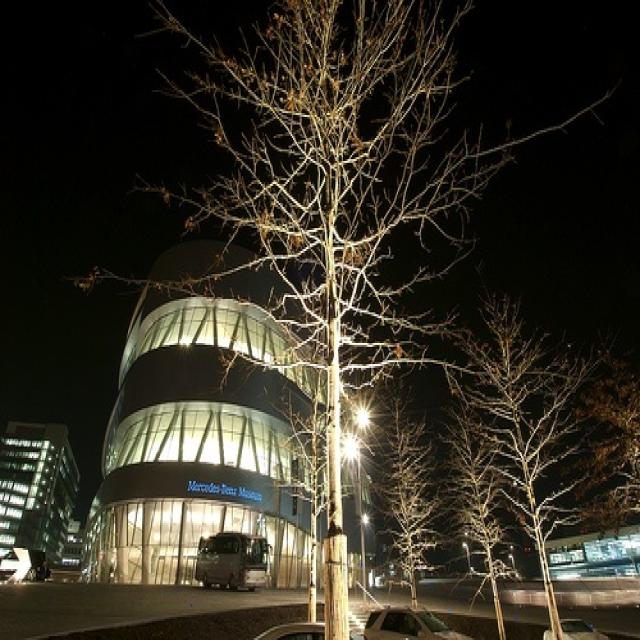bus: (196, 530, 270, 595)
